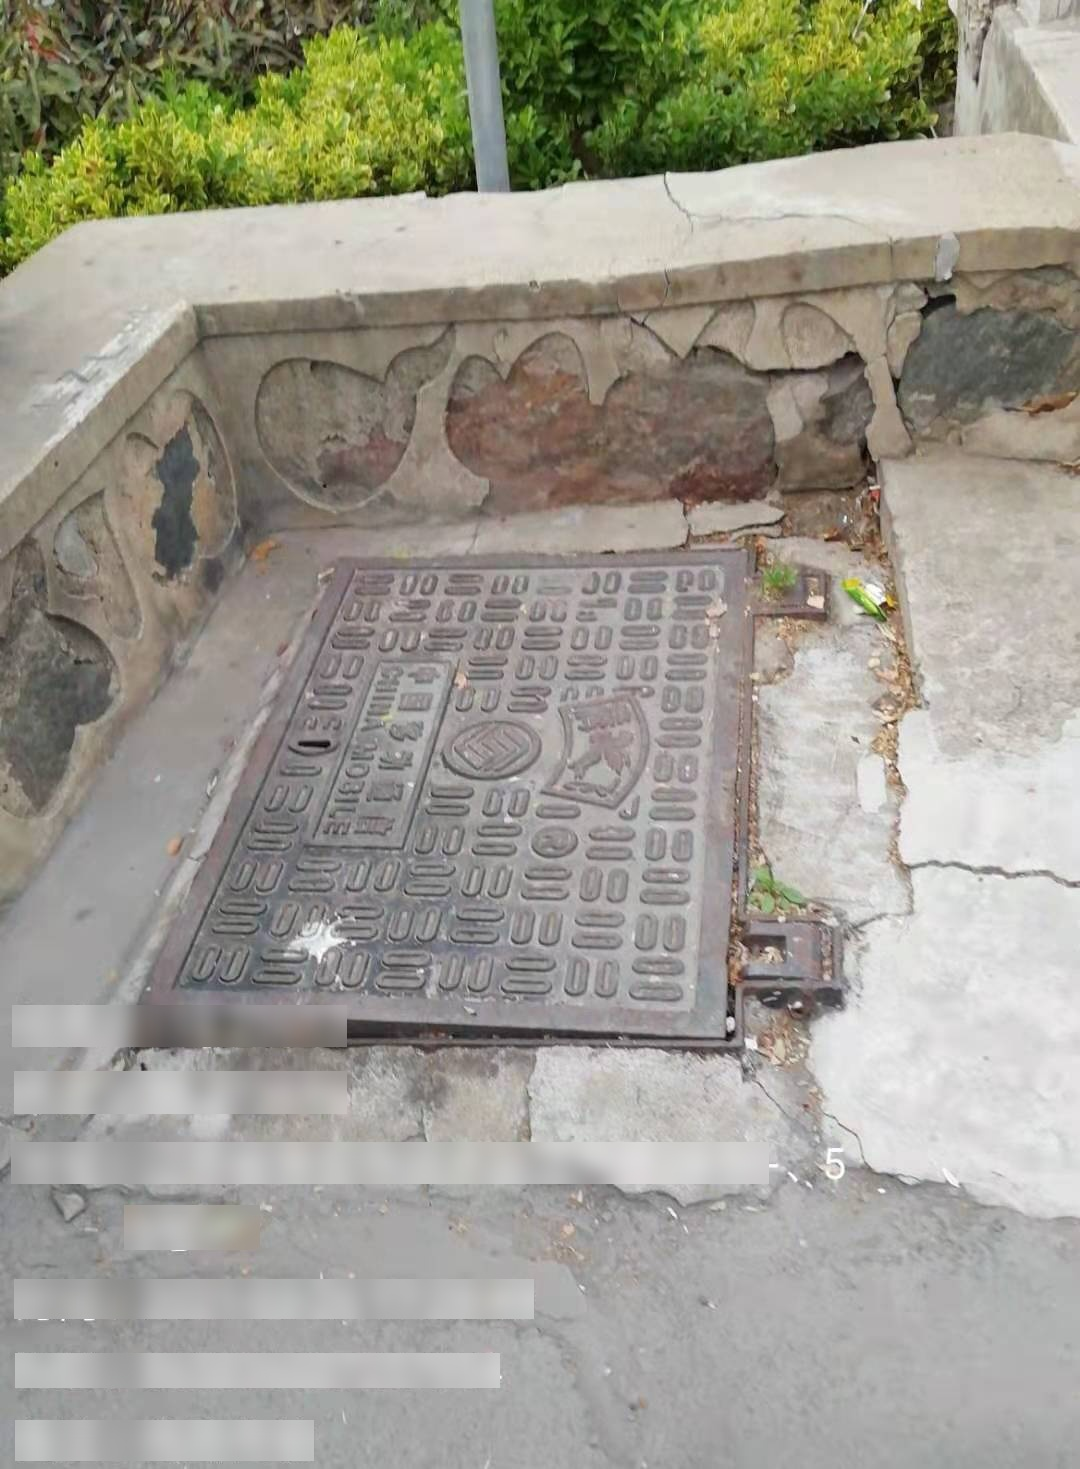uncovered: (125, 546, 838, 1053)
